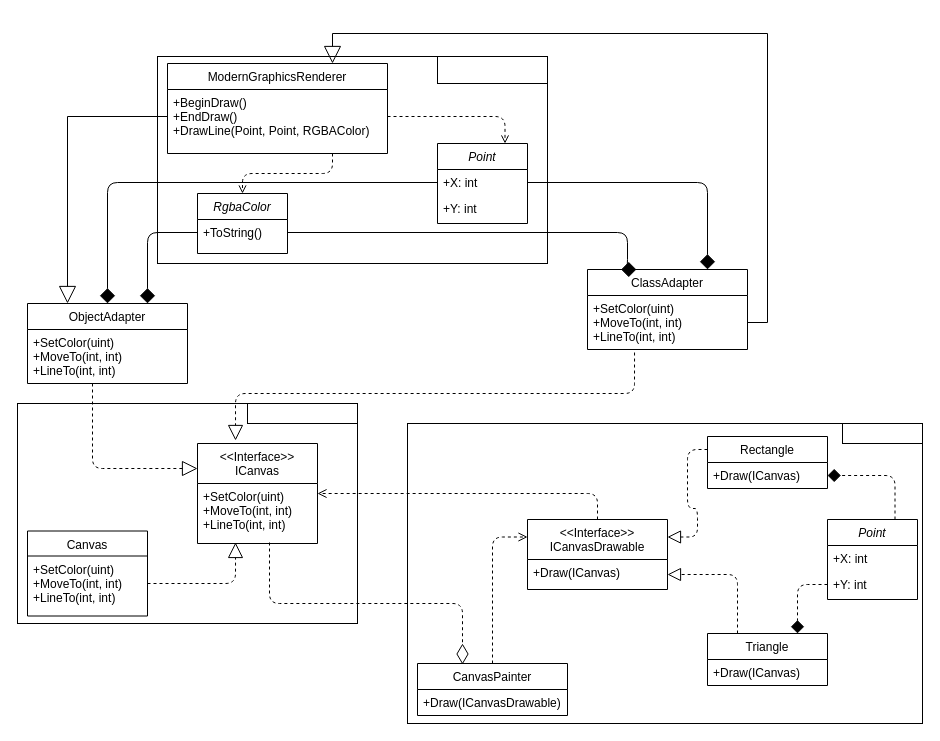
The diagram is 940 pixels wide and 741 high, and some of its shapes have lost their labels. Here are the shapes that lost their labels. From the top down, the centre of each, then its label:
point 492,70: ModernGraphicsLib
point 302,413: ShapeDrawingLib
point 882,433: GraphicsLib
